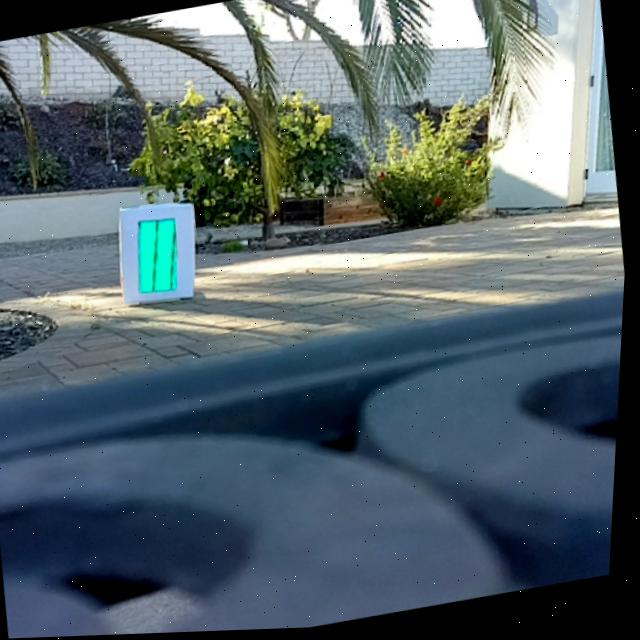led: (132, 215, 188, 297)
